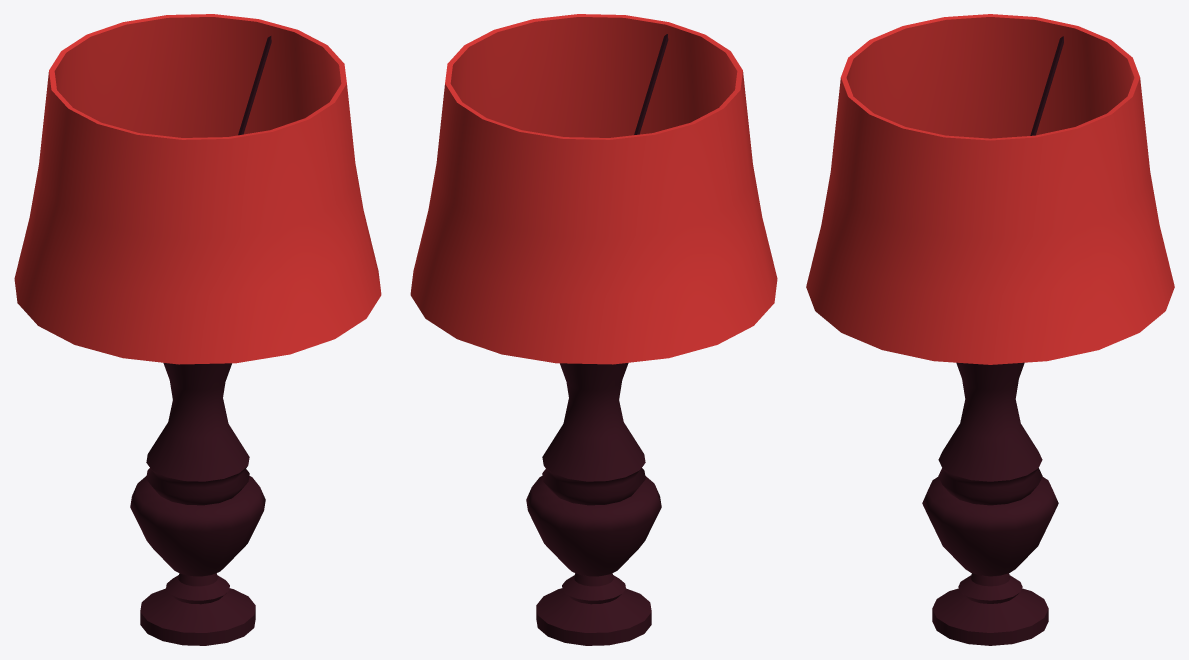
The model's file is LampTextured.fbx.
3 renders of one model, left to right at view 1: azimuth 30°, elevation 25°; view 2: azimuth 150°, elevation 25°; view 3: azimuth 270°, elevation 25°, orthographic.
Parts seen in each view (by area): view 1: LampShade, LampBase; view 2: LampShade, LampBase; view 3: LampShade, LampBase.
Part boxes in pixels (x1=…): LampShade: x1=14, y1=14, x2=381, y2=364; LampBase: x1=130, y1=36, x2=271, y2=645; LampShade: x1=410, y1=14, x2=777, y2=364; LampBase: x1=526, y1=34, x2=668, y2=645; LampShade: x1=806, y1=14, x2=1174, y2=364; LampBase: x1=922, y1=36, x2=1063, y2=645.
Size of the model in its own units: 4781 by 7783 by 4781.
